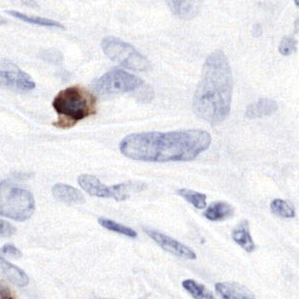Lymphocyte: (52, 86, 91, 120)
